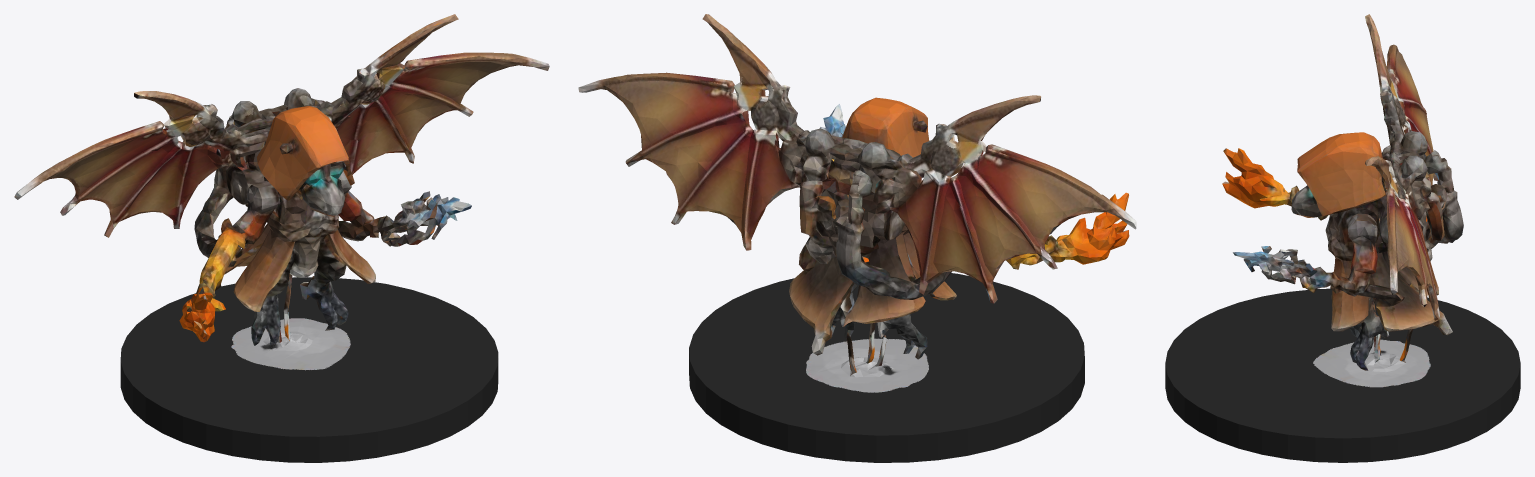
The model's file is pteraxii-sterylizor-alpha.glb.
3 renders of one model, left to right at view 1: azimuth 30°, elevation 25°; view 2: azimuth 150°, elevation 25°; view 3: azimuth 270°, elevation 25°, orthographic. The views are drawn at different scales.
Parts seen in each view (by area): view 1: figure, base; view 2: figure, base; view 3: base, figure.
Boxes of the visible parts, bbox=[...] form: figure: bbox=[14, 14, 549, 370]; base: bbox=[120, 277, 498, 462]; figure: bbox=[578, 14, 1136, 392]; base: bbox=[689, 273, 1084, 462]; base: bbox=[1165, 288, 1520, 462]; figure: bbox=[1222, 14, 1463, 387].
Bounding box in the file's own units: 2.56 × 1.47 × 1.57.
Materials: 2 (1 with a texture image).
